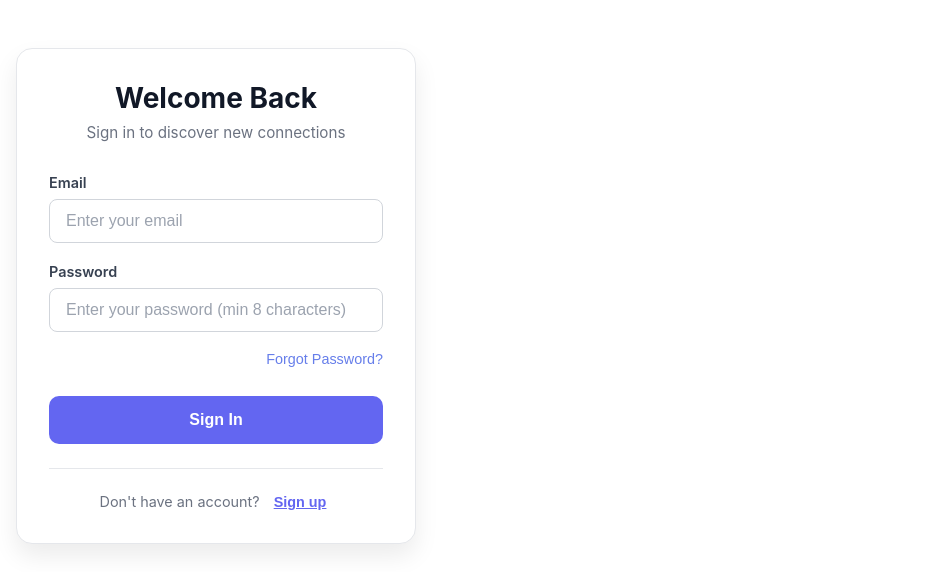
Test: Auth Page › Login Form › should successfully login with valid credentials
The width and height of the screenshot is (927, 572).
Type "test@example.com" into the field labelled "Email" at (216, 221), box left=49, top=199, right=383, bottom=243
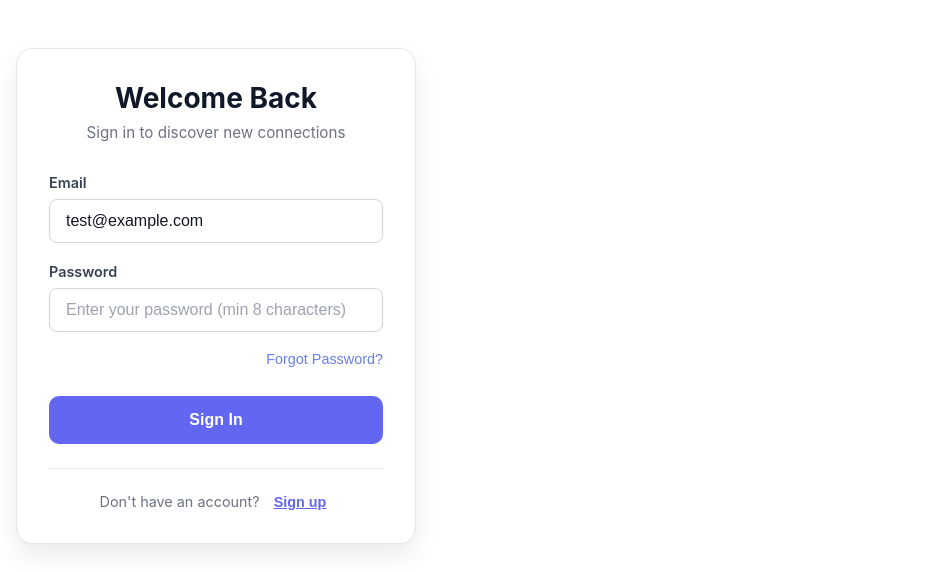
Type "password123" into the password field labelled "Password" at (216, 310), box left=49, top=288, right=383, bottom=332
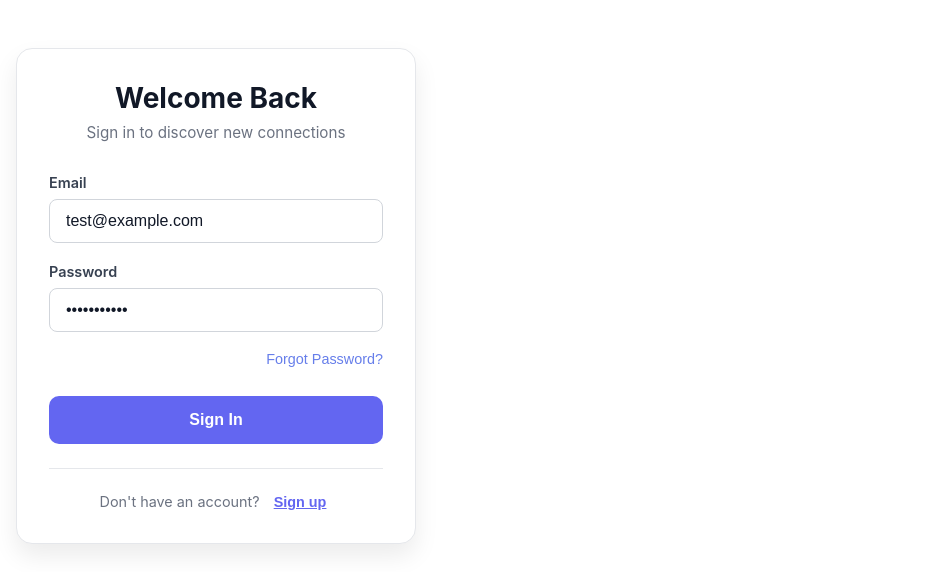
Click the button "Sign In" at (216, 420), box left=49, top=396, right=383, bottom=444
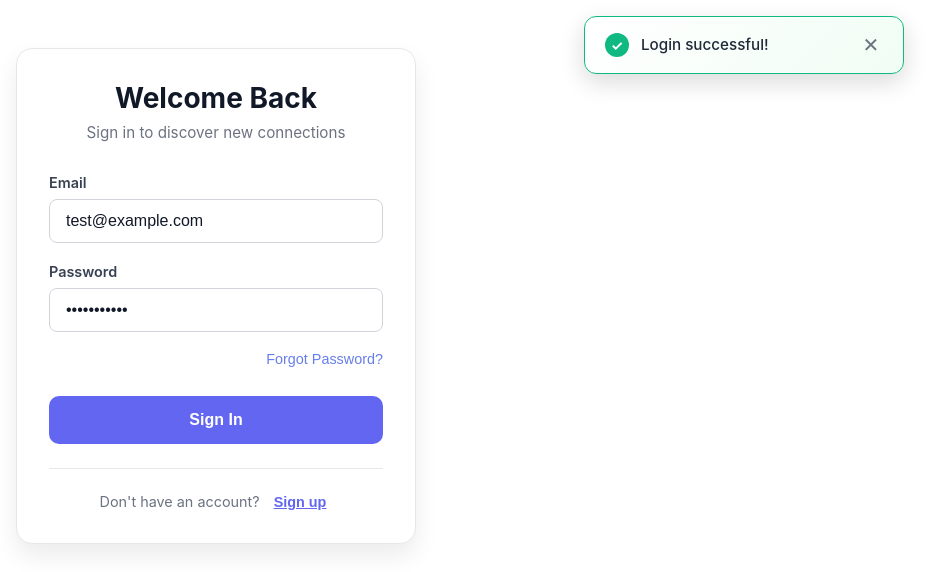
Expected: the text "Login successful!" is shown, left=641, top=34, right=769, bottom=56
